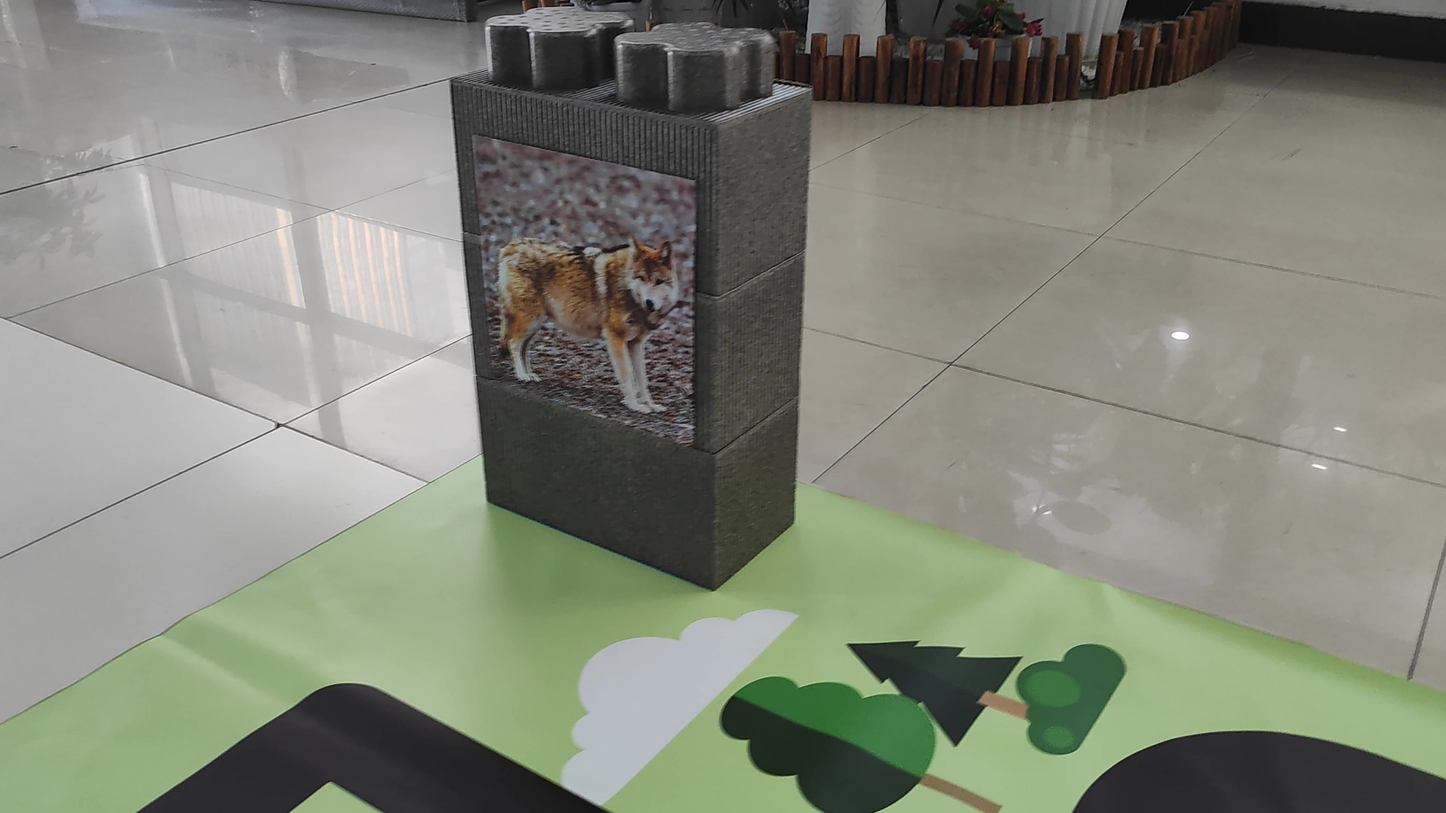wolf: (476, 217, 682, 425)
